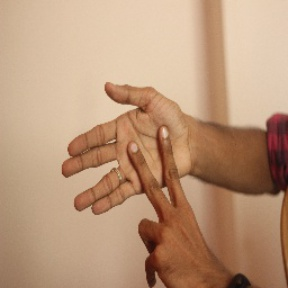N: (58, 81, 194, 272)
